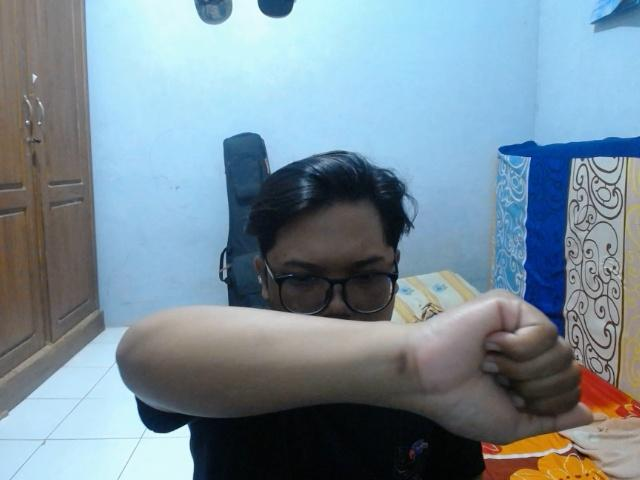Grab: (401, 280, 599, 448)
